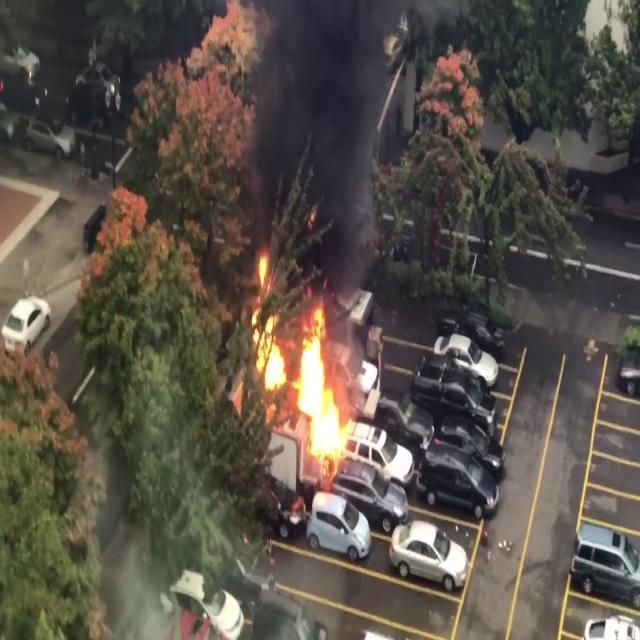Fire: (242, 254, 365, 470)
Smoke: (250, 0, 385, 271)
